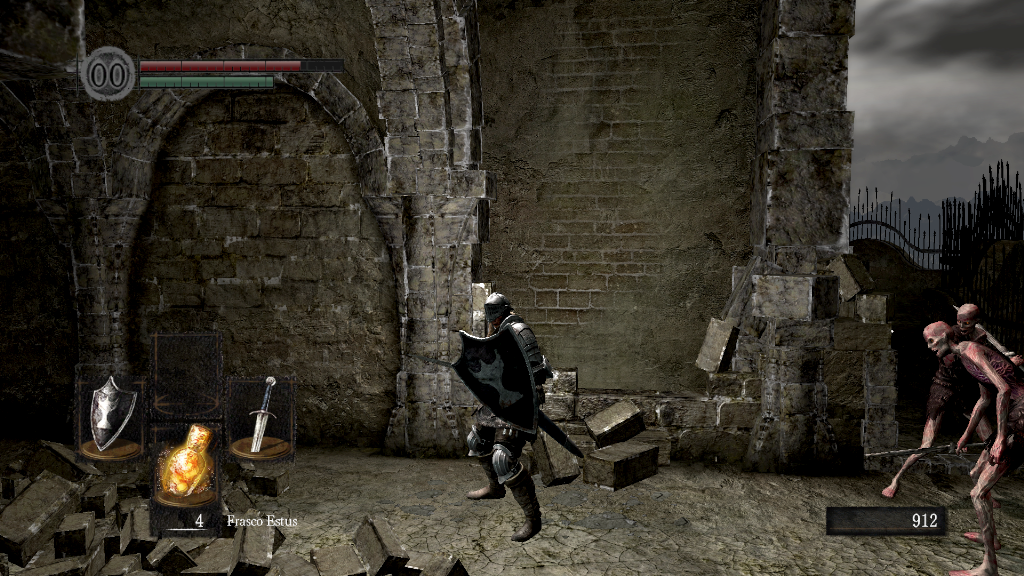health: (138, 58, 343, 71)
hollow: (881, 299, 1013, 502), (922, 324, 1023, 576)
humanity: (80, 45, 136, 102)
player: (449, 291, 586, 544)
souls: (825, 506, 945, 536)
stamina: (138, 74, 274, 88)
